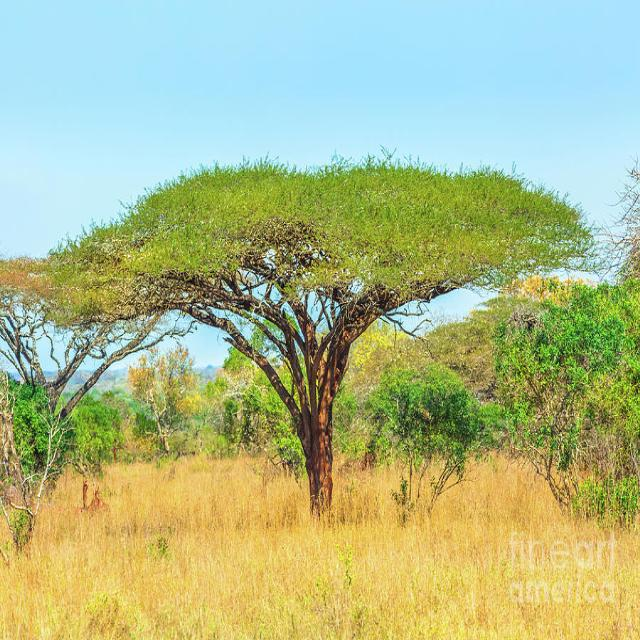Acacia: (53, 106, 576, 436)
